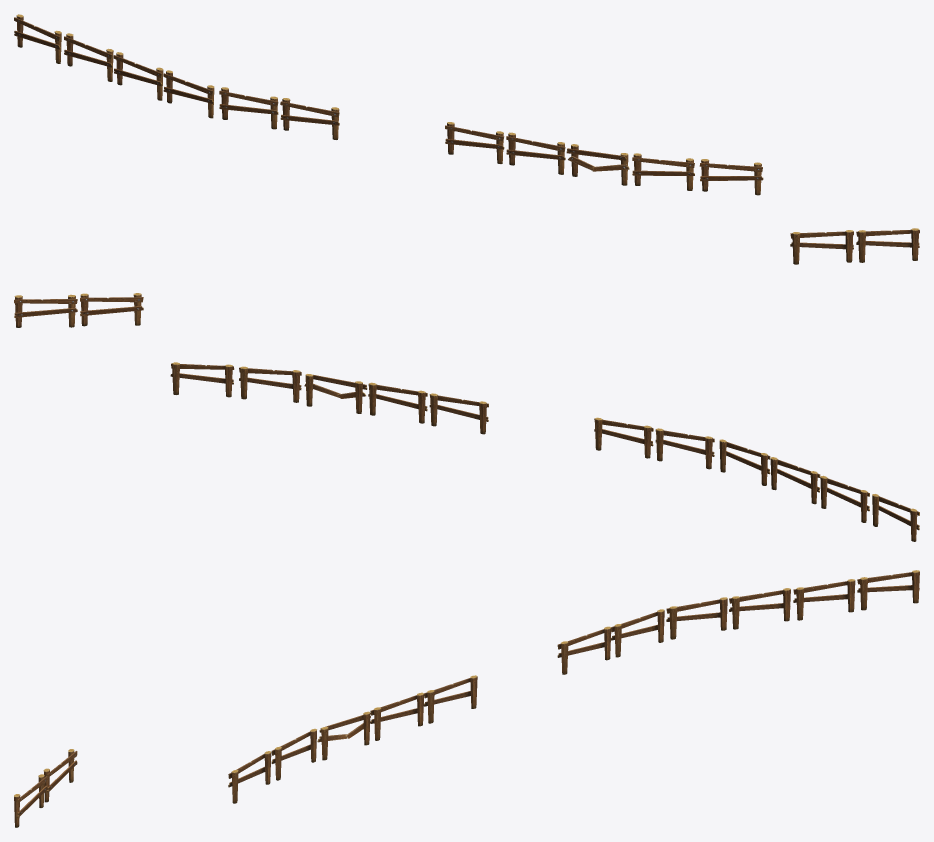
File: Area_12_47.fbx
The picture shows the model from 3 angles, top to bottom: view 1: azimuth 30°, elevation 25°; view 2: azimuth 210°, elevation 25°; view 3: azimuth 270°, elevation 25°; orthographic projection.
Parts seen in each view (by area): view 1: Area_12_47; view 2: Area_12_47; view 3: Area_12_47.
Part boxes in pixels (x1,y1,x2,y2): Area_12_47: (14,14,919,264); Area_12_47: (14,293,919,541); Area_12_47: (14,570,919,827).
Size of the model in its own units: 2184 by 147 by 3652.
